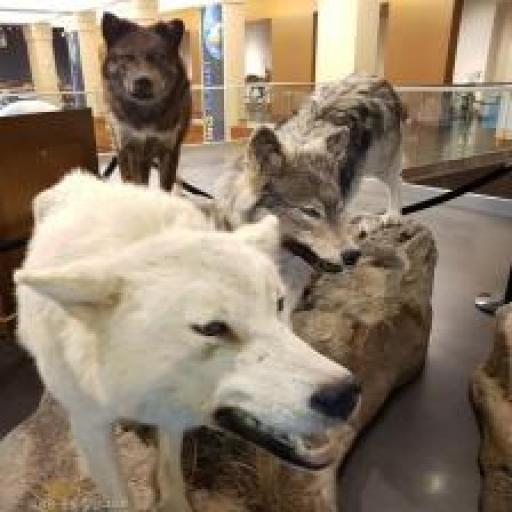wolf: (2, 141, 374, 512), (201, 62, 431, 320), (89, 9, 199, 209)
